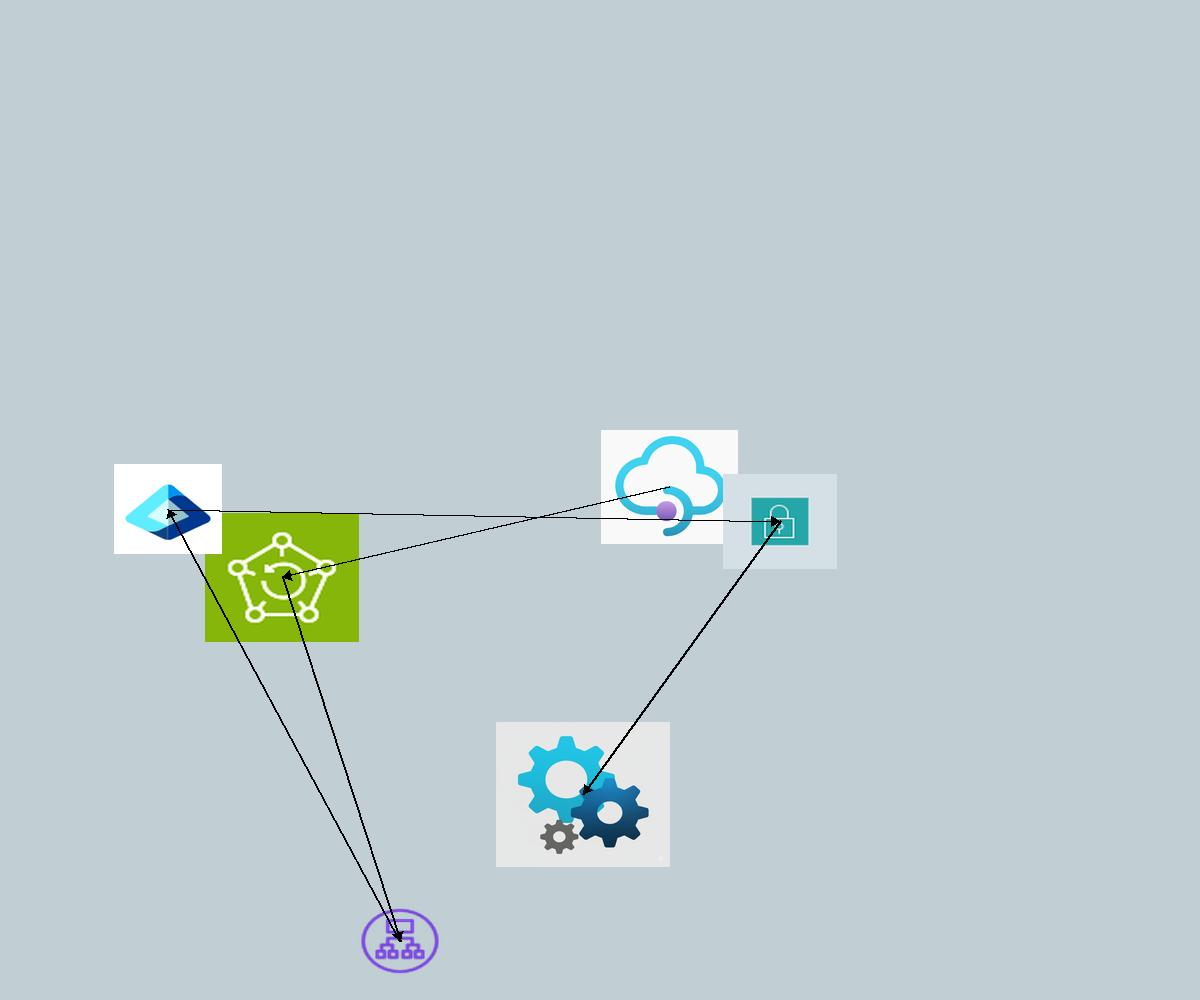AWS-Backup: (205, 513, 359, 642)
AWS-Private-subnet: (723, 474, 837, 569)
AWS-Res_Elastic-Load-Balancing_Application-Load-Balancer: (358, 906, 442, 976)
Azure_api: (496, 722, 670, 867)
Azure_api_gateway: (601, 430, 738, 544)
Azure_microsoft_entra: (114, 464, 222, 554)
